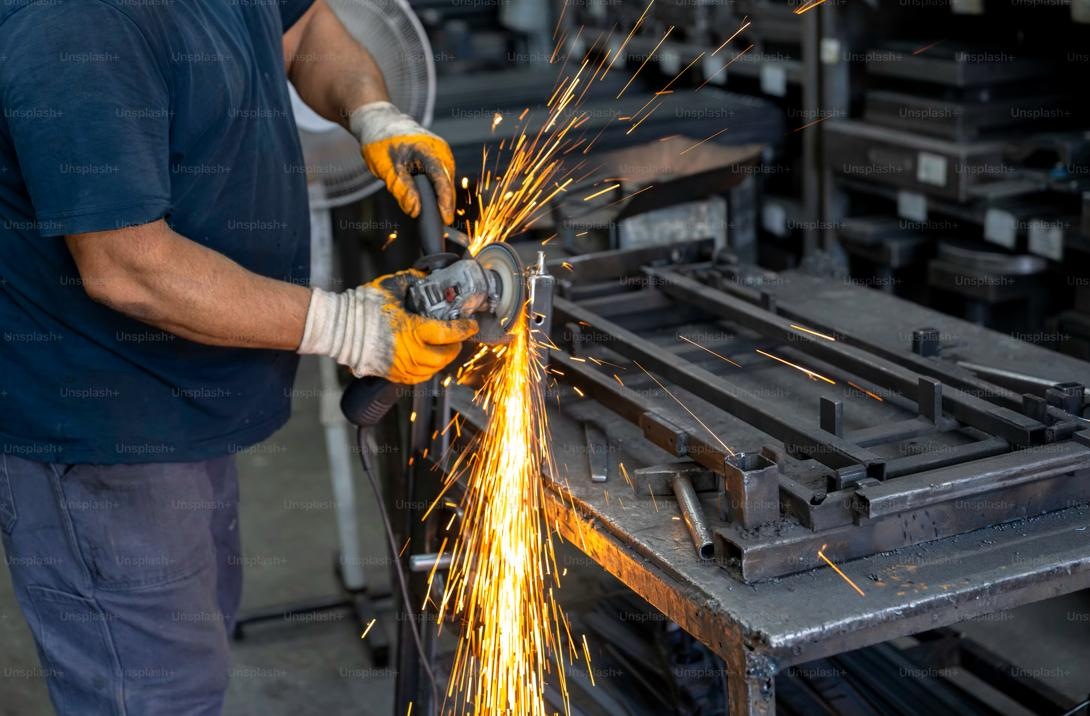controlled_fire: (406, 137, 633, 709)
